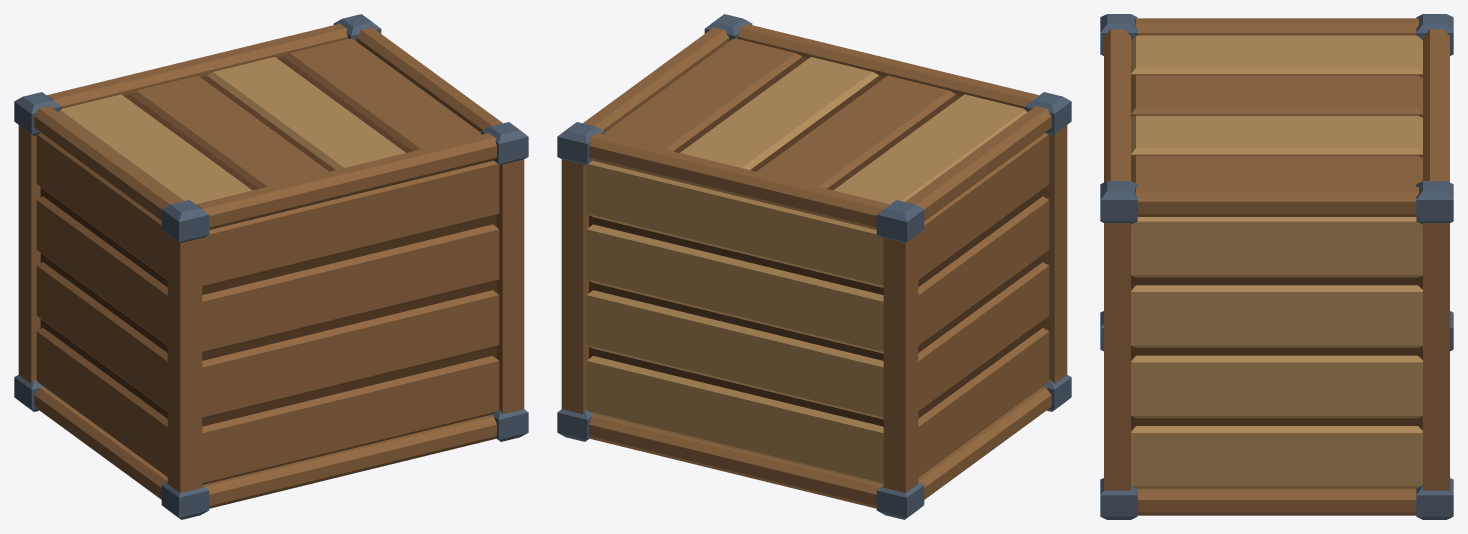
File: Crate_31.glb
3 views of the same model, side by side, from view 1: azimuth 30°, elevation 25°; view 2: azimuth 150°, elevation 25°; view 3: azimuth 270°, elevation 25° (orthographic). The views are drawn at different scales.
Parts seen in each view (by area): view 1: Crate_31; view 2: Crate_31; view 3: Crate_31.
Part boxes in pixels (bbox=[...]): Crate_31: bbox=[14, 14, 528, 519]; Crate_31: bbox=[557, 14, 1071, 519]; Crate_31: bbox=[1100, 14, 1453, 519].
Bounding box in the file's own units: 2.55 × 2.14 × 2.09.
